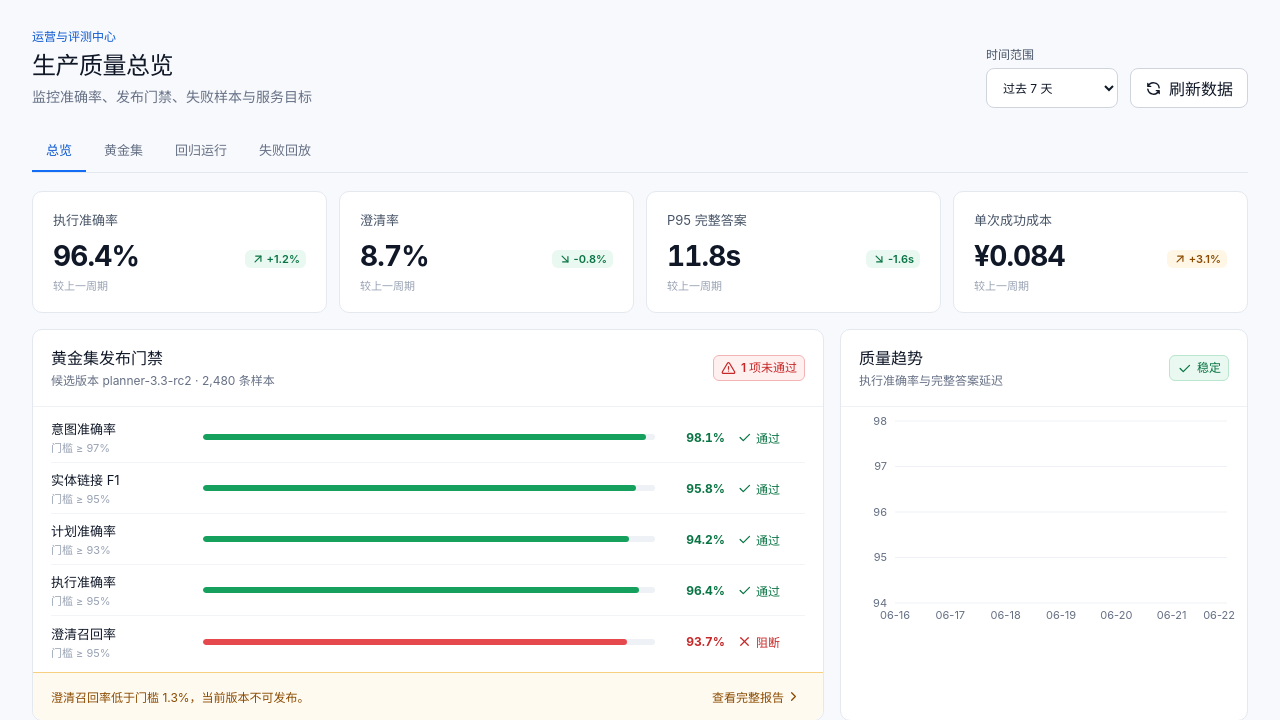
OperationsCenter UI › filters golden samples and provides a recoverable empty state
The image size is (1280, 720).
Click the tab "黄金集" at (124,150), box [90,128,157,172]
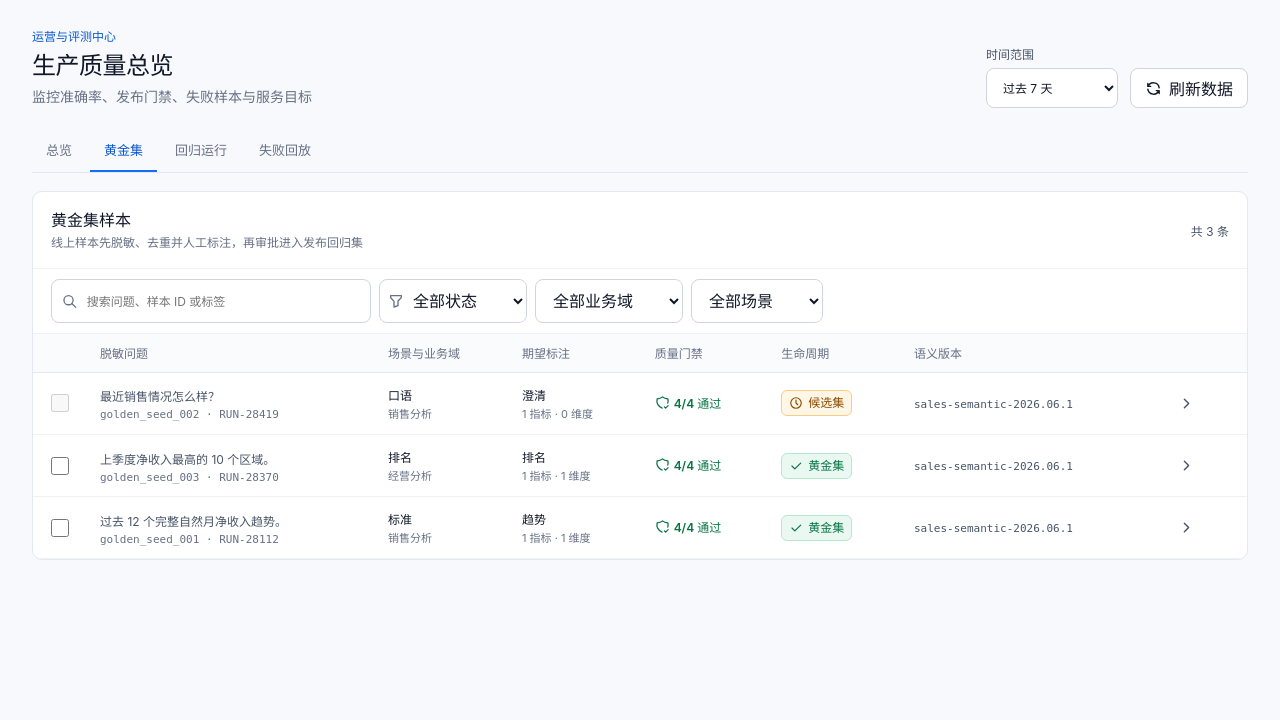
Select "候选集" in the 1st dropdown named "黄金样本状态" at (465,301), box [404,280,526,322]
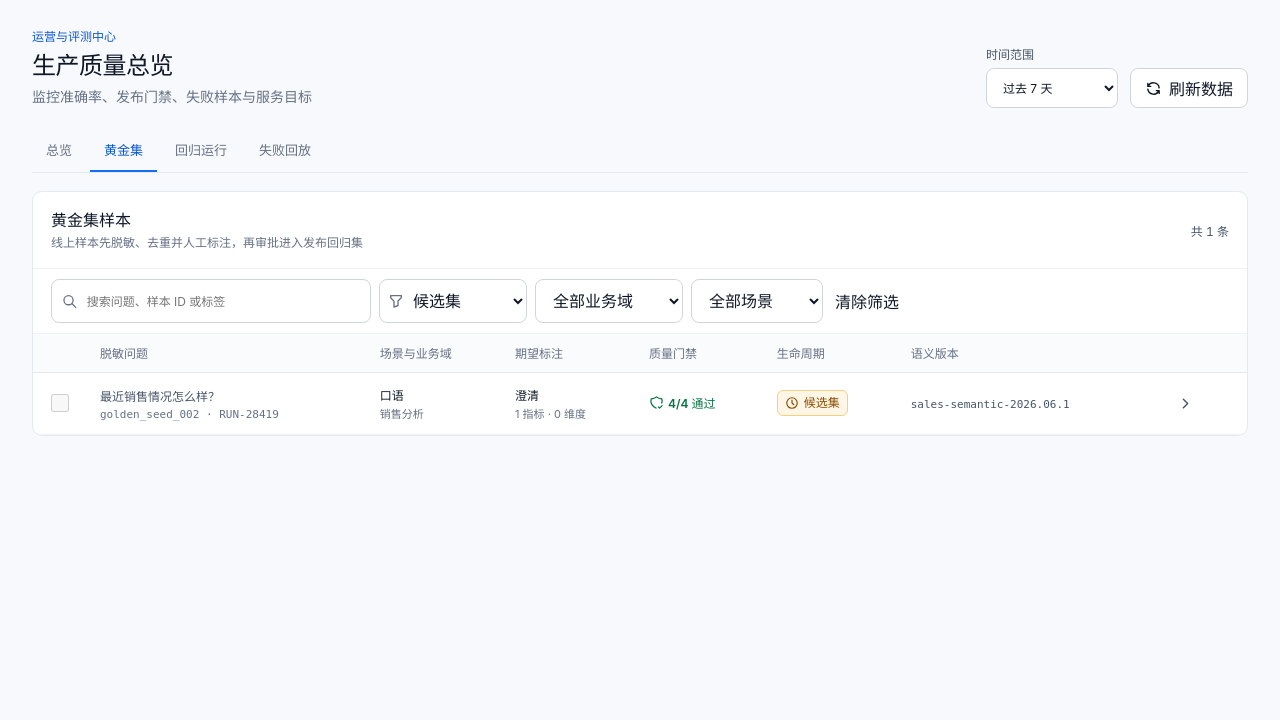
Check: the button "最近销售情况怎么样？" is shown, box [100,385,220,406]
Check: the button "过去 12 个完整自然月净收入趋势。" is gone
Type "没有这个样本" into the field with placeholder "搜索问题、样本 ID 或标签" at (222,301), box [85,292,360,310]
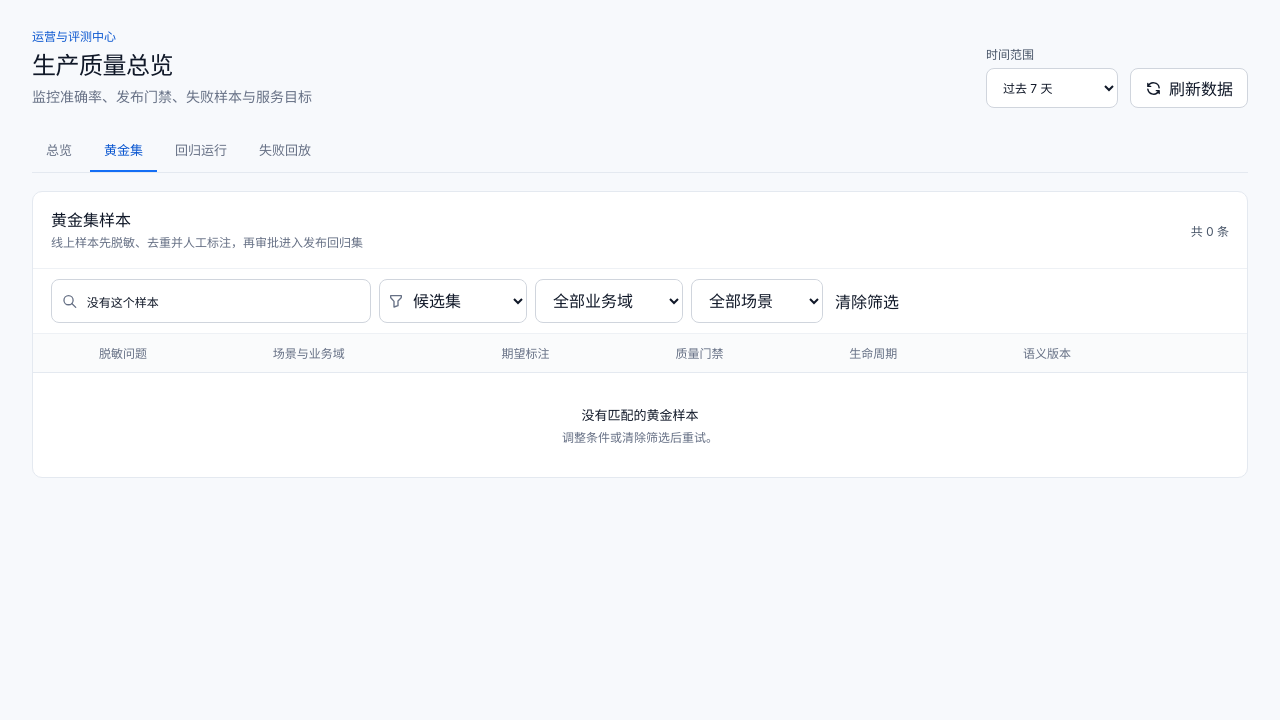
Check: the text "没有匹配的黄金样本" is shown, box [582,406,698,422]
Click the button "清除筛选" at (867,301), box [831,285,903,317]
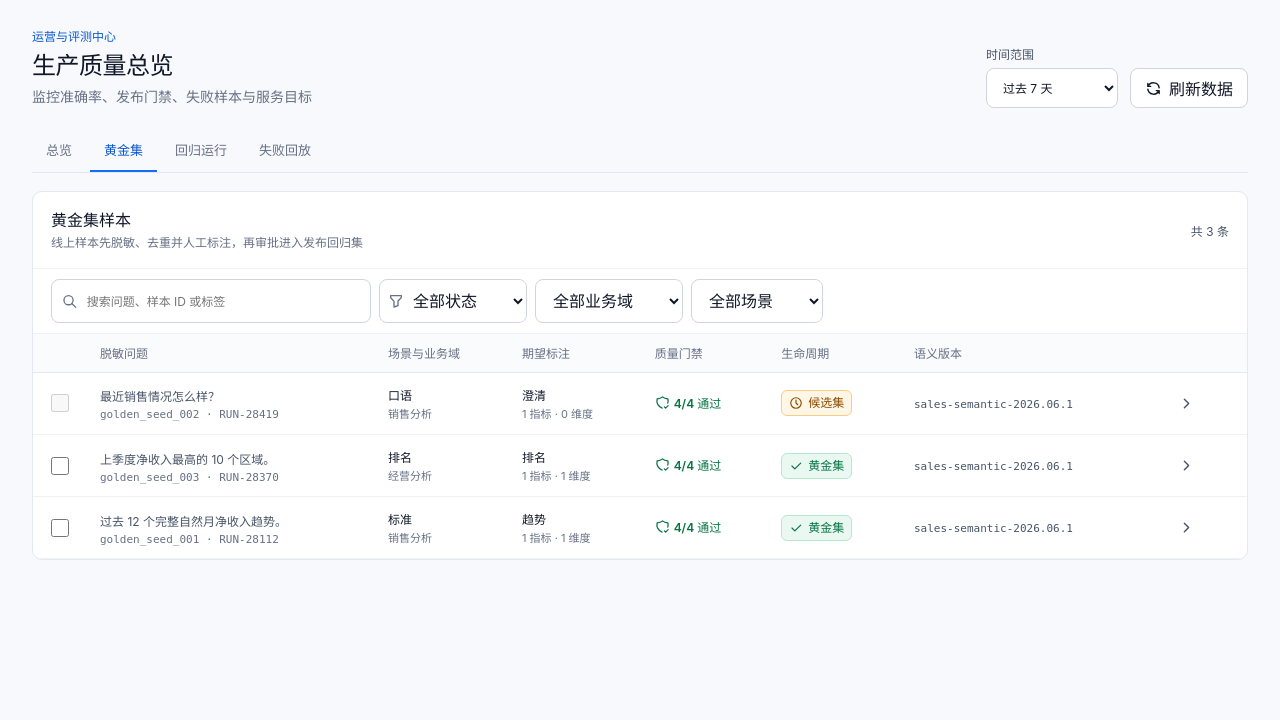
Check: the button "过去 12 个完整自然月净收入趋势。" is shown, box [100,510,287,530]
